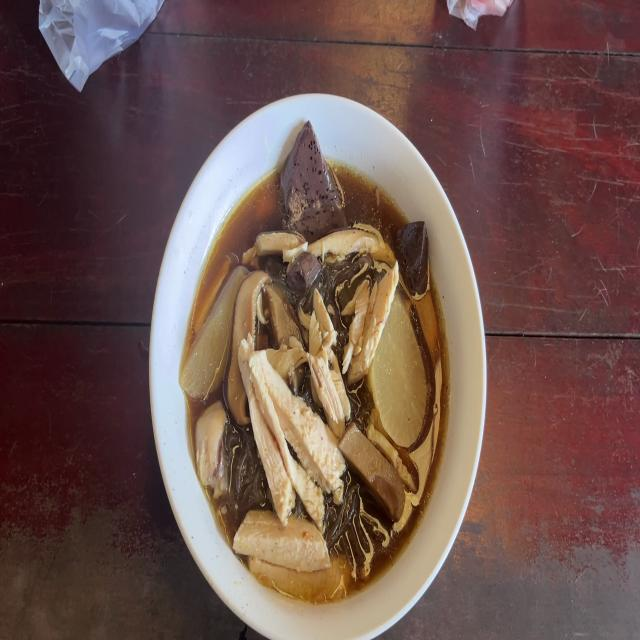boiled_chicken_blood_jelly: (288, 124, 346, 240), (393, 218, 430, 282), (290, 252, 312, 292)
chicken_shredded: (244, 343, 333, 507), (236, 511, 350, 599), (309, 289, 350, 430), (343, 262, 396, 364), (242, 227, 383, 263), (192, 407, 228, 489)
daikon_radish: (183, 261, 238, 399), (378, 310, 424, 447)
noodle: (182, 169, 446, 599)
